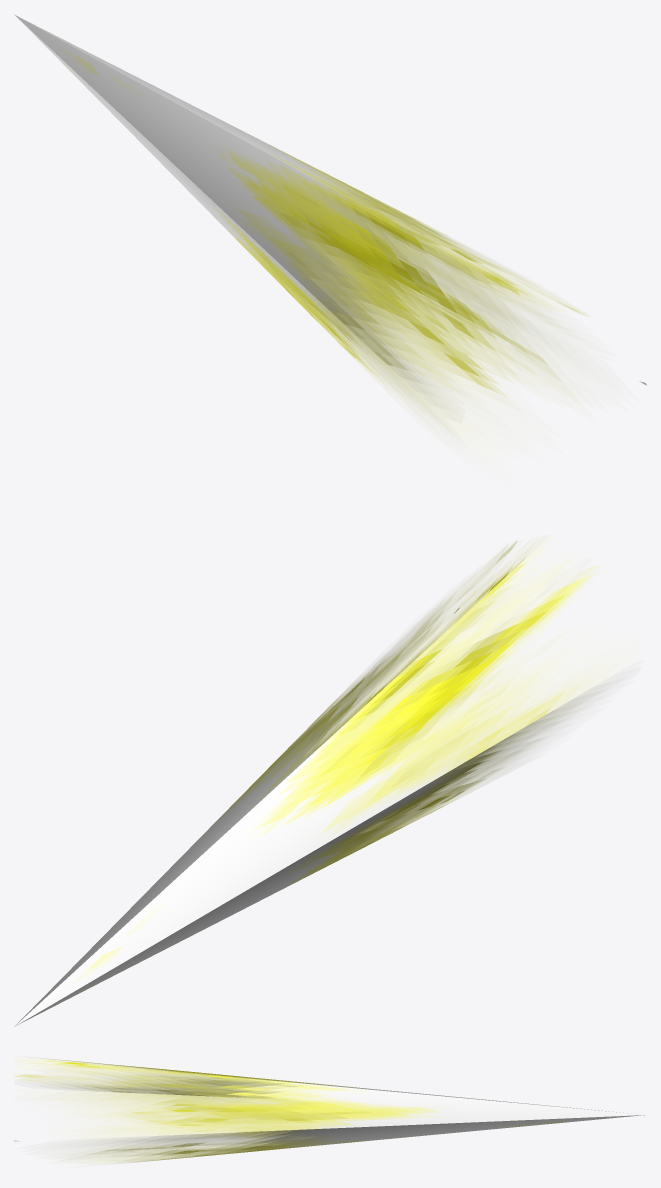
File: 12-shotgun-flash.glb
3 views of the same model, one above another, from view 1: azimuth 30°, elevation 25°; view 2: azimuth 150°, elevation 25°; view 3: azimuth 270°, elevation 25° (orthographic). The views are drawn at different scales.
Parts seen in each view (by area): view 1: gun; view 2: gun; view 3: gun.
Part boxes in pixels (bbox=[...]): gun: bbox=[14, 14, 646, 443]; gun: bbox=[14, 541, 610, 1026]; gun: bbox=[14, 1058, 644, 1163].
Size of the model in its own units: 139 by 138 by 691.
4 materials, 4 textured.
